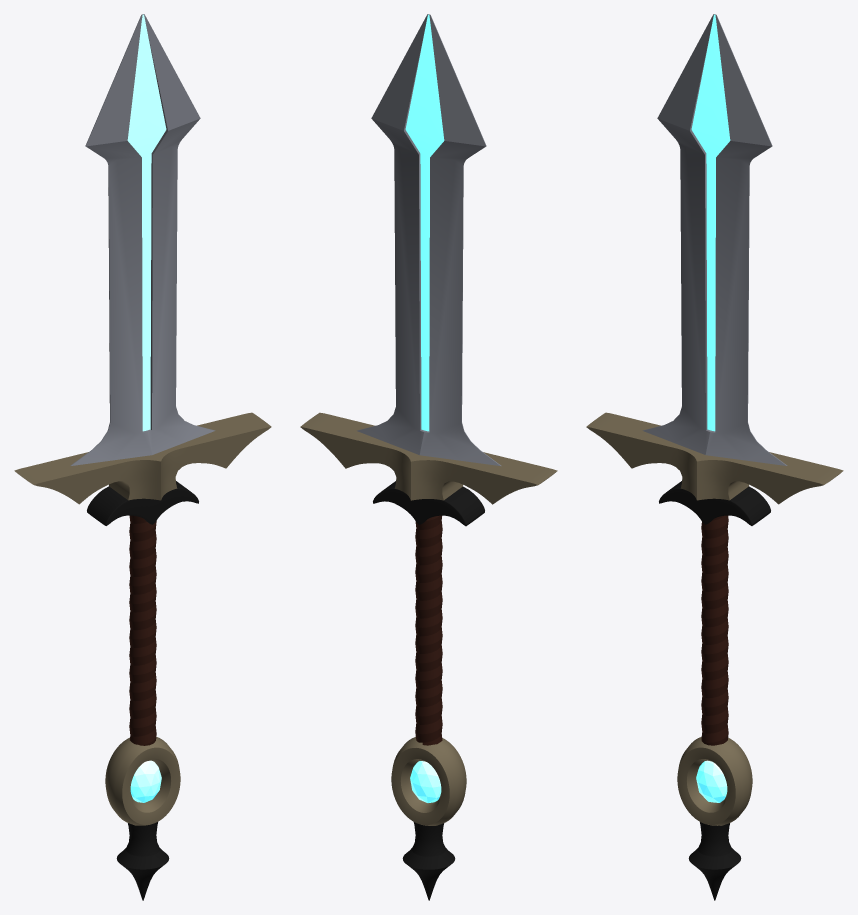
File: Polearm Sword.fbx
3 views of the same model, side by side, from view 1: azimuth 30°, elevation 25°; view 2: azimuth 150°, elevation 25°; view 3: azimuth 330°, elevation 25° (orthographic).
Visible parts, largest first — view 1: blade.001, Retopo_Guard.002, wrap.001, Torus.001, guard_lower.002, pommel.001, gem; view 2: blade.001, Retopo_Guard.002, wrap.001, Torus.001, guard_lower.002, pommel.001, gem; view 3: blade.001, Retopo_Guard.002, wrap.001, Torus.001, guard_lower.002, pommel.001, gem.
Boxes of the visible parts, x1,y1,x2,y2 form: blade.001: [70, 14, 215, 465]; Retopo_Guard.002: [14, 412, 271, 504]; wrap.001: [129, 515, 156, 745]; Torus.001: [105, 737, 180, 825]; guard_lower.002: [87, 481, 198, 525]; pommel.001: [116, 822, 169, 900]; gem: [130, 760, 161, 802]; blade.001: [357, 14, 501, 465]; Retopo_Guard.002: [300, 412, 557, 504]; wrap.001: [415, 515, 442, 745]; Torus.001: [391, 737, 466, 825]; guard_lower.002: [373, 481, 484, 526]; pommel.001: [402, 822, 455, 900]; gem: [410, 761, 441, 802]; blade.001: [642, 14, 787, 465]; Retopo_Guard.002: [586, 412, 843, 504]; wrap.001: [701, 515, 728, 745]; Torus.001: [677, 737, 752, 825]; guard_lower.002: [659, 481, 770, 525]; pommel.001: [688, 822, 741, 900]; gem: [696, 760, 727, 802].
Bounding box in the file's own units: 0.7048 × 2.5 × 0.1852.
